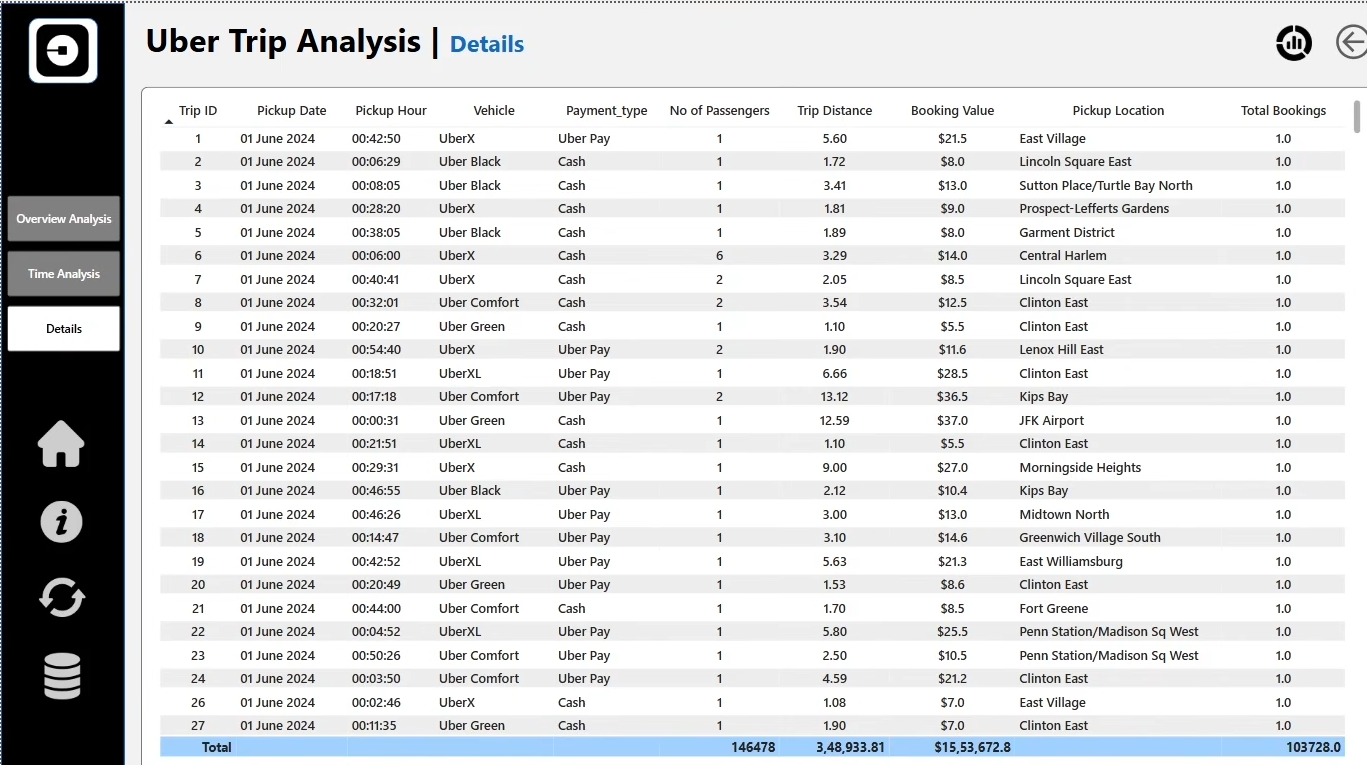

Layout of this report page (visuals, bound fields, positions):
{"tool":"powerbi","page":{"name":"Details","canvas":[1600,900],"ordinal":2},"visuals":[{"type":"shape","box":[0,0,142,900.5],"z":0},{"type":"textbox","box":[142.4,0,670.7,60],"z":1000},{"type":"shape","box":[160.2,60.6,1422.8,827.2],"z":2000},{"type":"tableEx","fields":{"Values":["Trip Details.Trip ID","Trip Details.Pickup Date","Trip Details.Vehicle","Trip Details.Payment_type","Sum(Trip Details.passenger_count)","Trip Details.Total Trip Distance Measure","Trip Details.Total Booking Value","Location Table.Location","Trip Details.Total Bookings","Trip Details.Pickup Hour (HH MM SS)"]},"box":[177.3,73.1,1390.1,803.9],"z":3000},{"type":"actionButton","box":[0,0,100,40],"z":4000}]}

Visuals, with their boxes on the page's 1600x900 design canvas (x1, y1, x2, y2). These are canvas units, not pixel positions in the 1367x765 screenshot, which may show the page scaled, cropped or inside an application window:
shape: (x1=0, y1=0, x2=142, y2=900)
textbox: (x1=142, y1=0, x2=813, y2=60)
shape: (x1=160, y1=61, x2=1583, y2=888)
tableEx - Trip Details.Trip ID x Trip Details.Pickup Date: (x1=177, y1=73, x2=1567, y2=877)
actionButton: (x1=0, y1=0, x2=100, y2=40)
